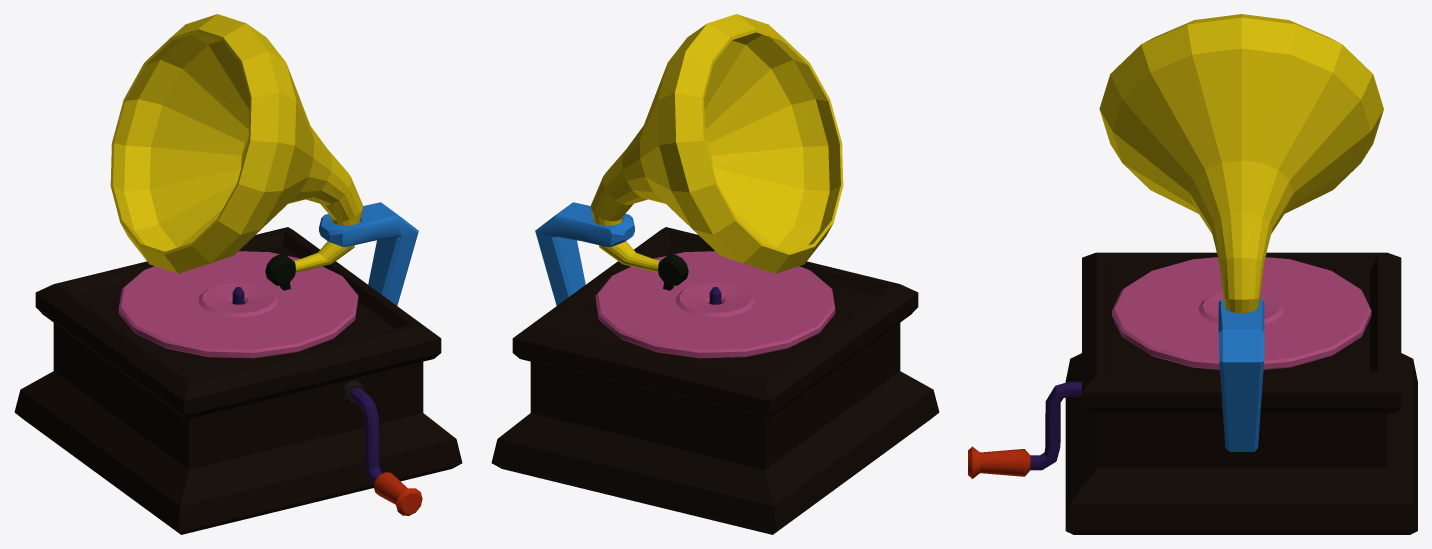
The model's file is Vinyl record player.FBX.
The picture shows the model from 3 angles, left to right: view 1: azimuth 30°, elevation 25°; view 2: azimuth 150°, elevation 25°; view 3: azimuth 270°, elevation 25°; orthographic projection. The views are drawn at different scales.
Parts seen in each view (by area): view 1: Vinyl record player; view 2: Vinyl record player; view 3: Vinyl record player.
Boxes of the visible parts, bbox=[...] form: Vinyl record player: bbox=[14, 14, 462, 534]; Vinyl record player: bbox=[491, 14, 939, 534]; Vinyl record player: bbox=[968, 14, 1417, 534].
Bounding box in the file's own units: 861 × 995 × 1100.
